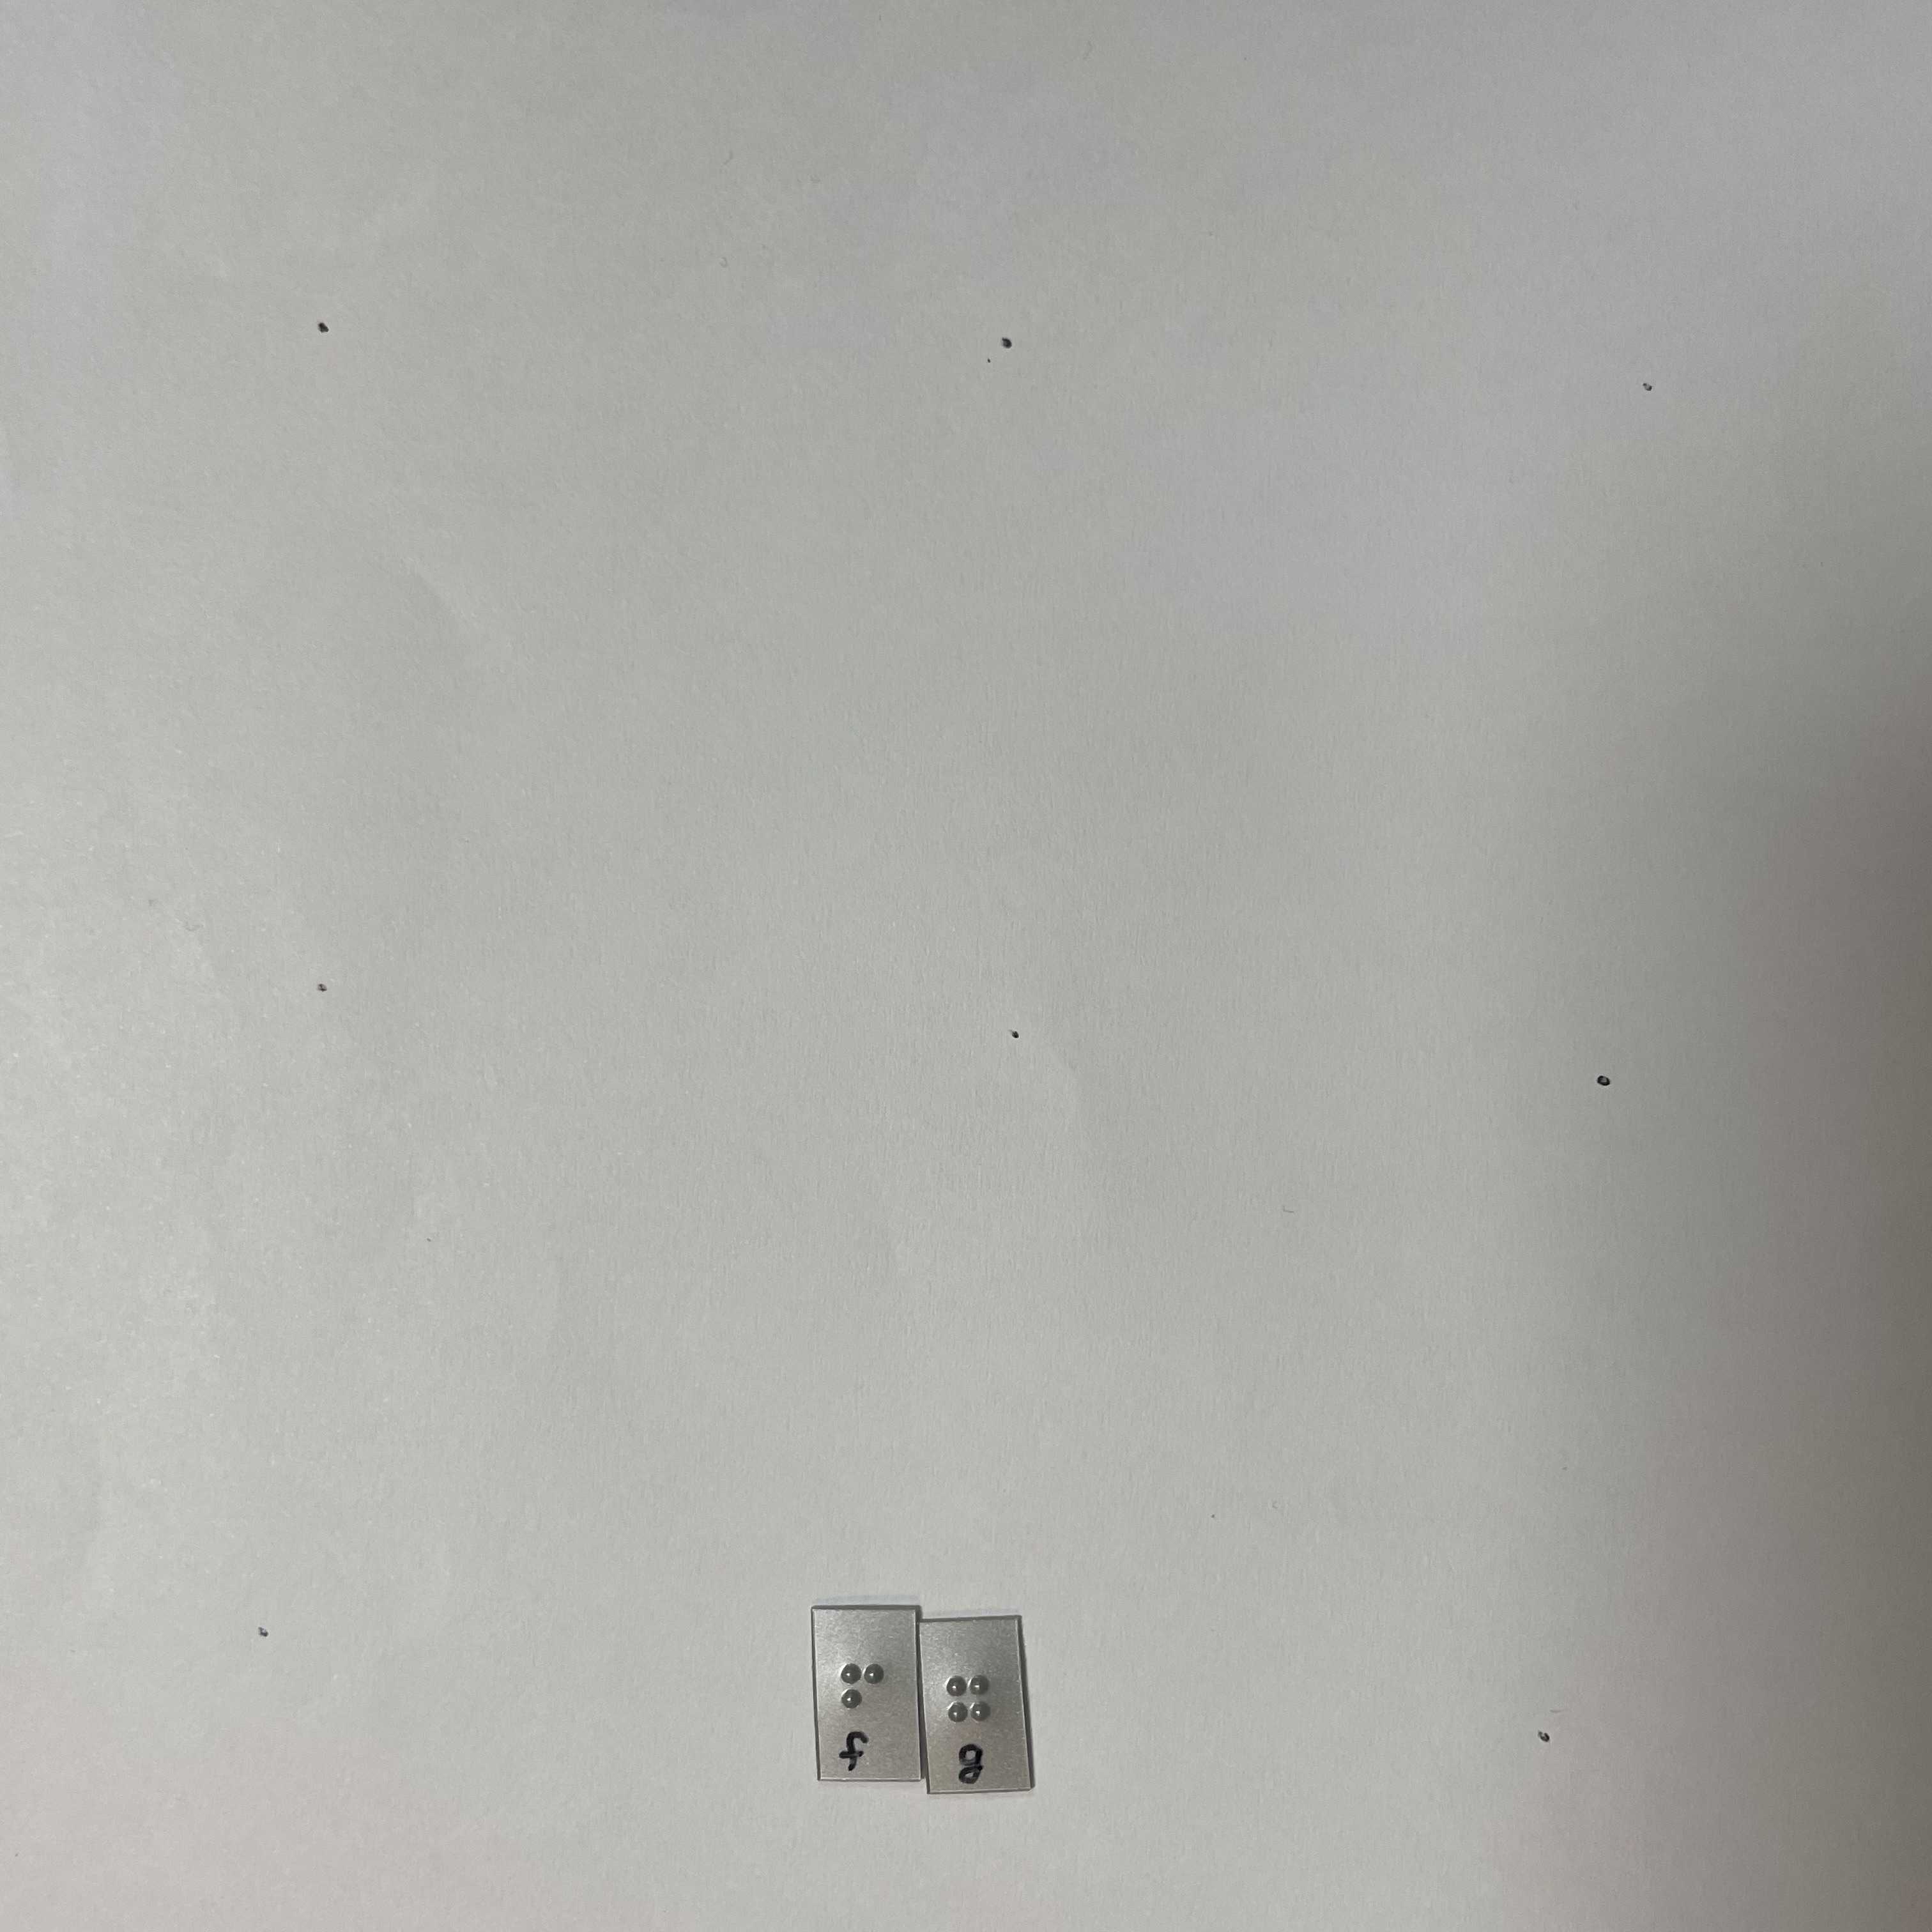f: (833, 1650, 893, 1742)
g: (942, 1664, 1001, 1747)
